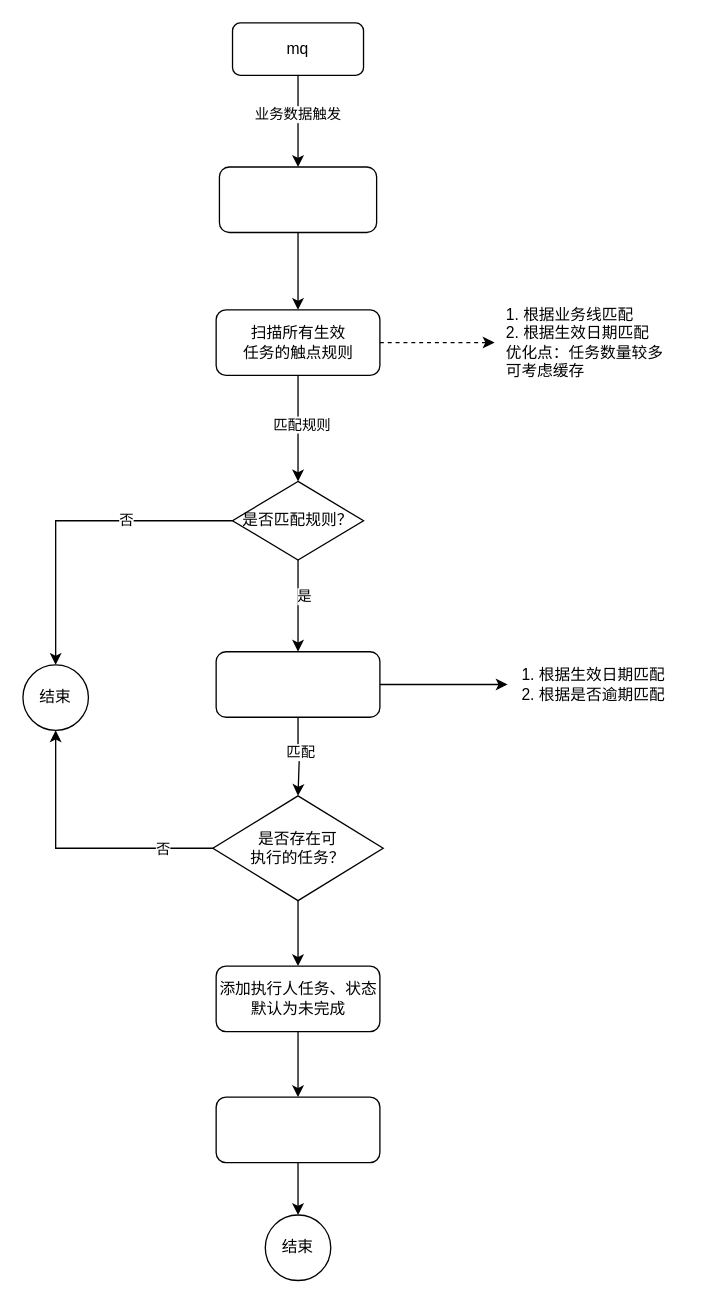
Image size: 714x1303. Some labels were removed from this diagram. The shapes that lost their labels are listed below. From the top down, each one's box as (x1, y1, x2, y2) in pixels, then its label:
(218, 166, 377, 233): 处理业务数据
(215, 650, 380, 717): 扫描所有可执行的 的子任务
(215, 1096, 380, 1163): 添加执行人工作 对象信息
